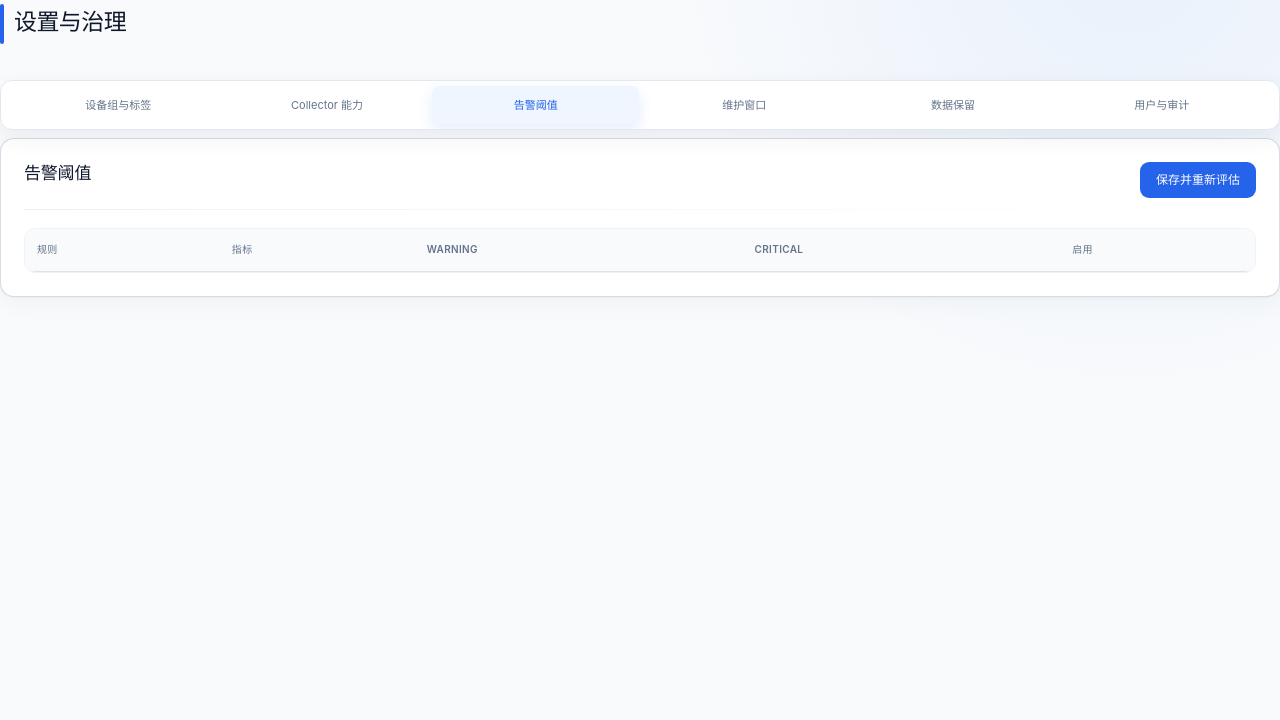
Test case: SettingsPage tabs › shows the real Hermes Studio rootfs copy percentage
Step 1. Click the tab with id "settings-tab-maintenance" → x=744, y=105, box x1=641 y1=86 x2=848 y2=124
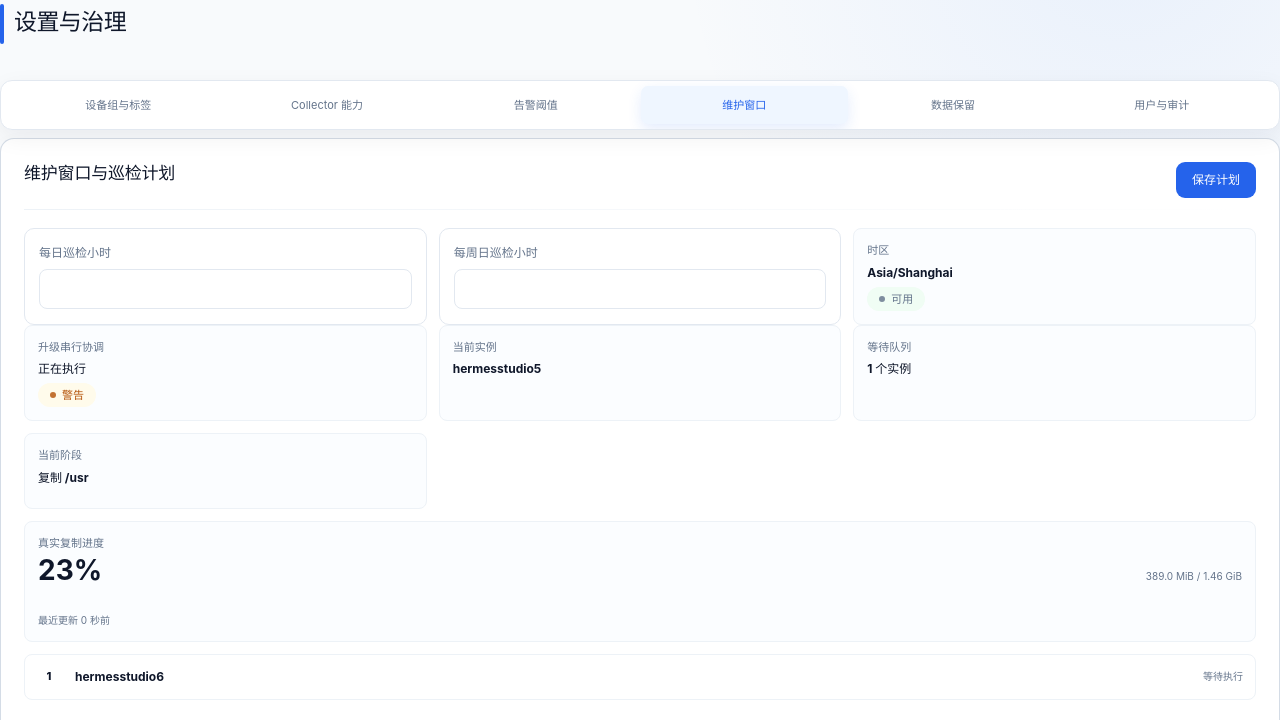
Result: the text "真实复制进度" is shown at x1=38 y1=535 x2=104 y2=552
Result: the text "23%" is shown at x1=38 y1=556 x2=104 y2=584
Result: the text "复制 /usr" is shown at x1=38 y1=469 x2=89 y2=487
